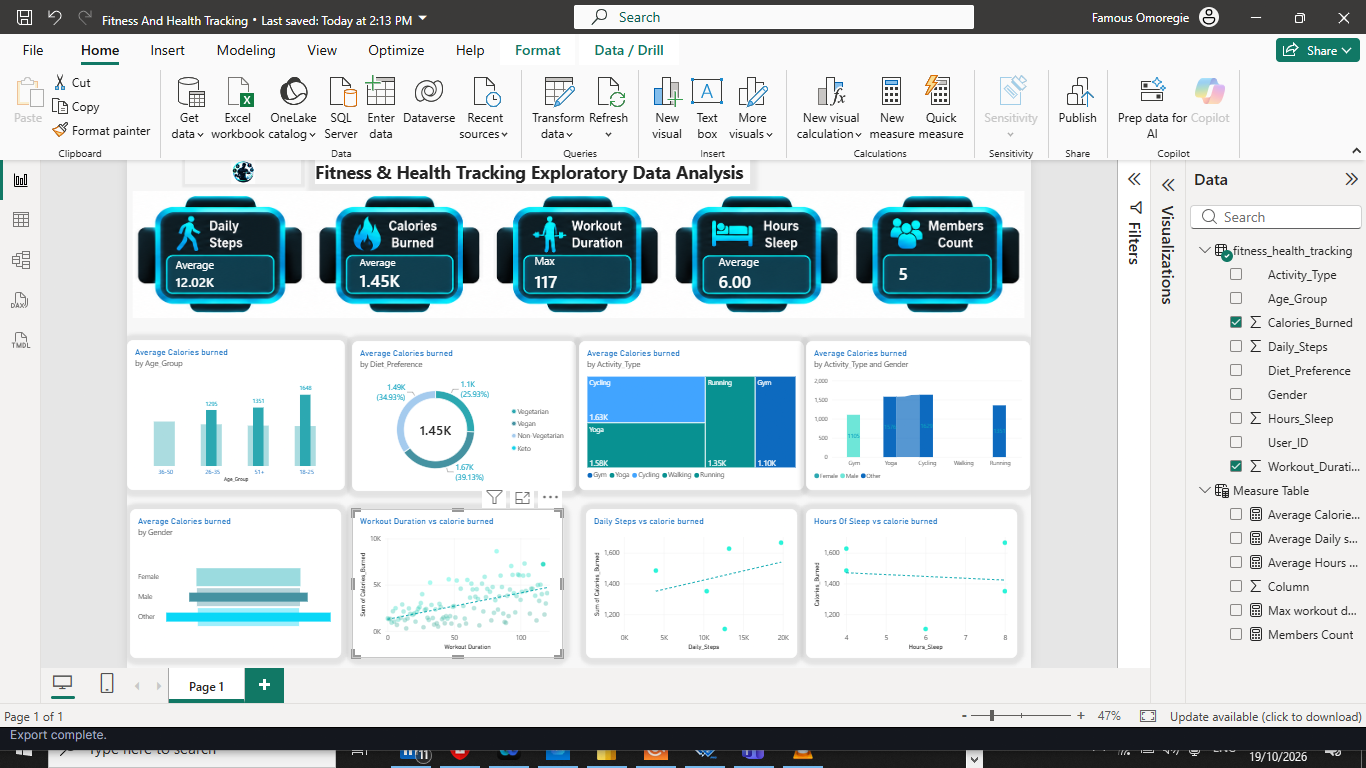

The dashboard page shown, as its layout file describes it:
{"tool":"powerbi","page":{"name":"Page 1","canvas":[1920,1080],"ordinal":0},"visuals":[{"type":"textbox","box":[399.7,0,924.8,51],"z":0},{"type":"image","box":[123.3,0,246.6,51],"z":1000},{"type":"image","box":[0,65.9,1919.8,270],"z":2000},{"type":"cardVisual","fields":{"Data":["Measure Table.Average Calories burned"]},"box":[478.3,202,210.5,80.8],"z":3000},{"type":"cardVisual","fields":{"Data":["Measure Table.Average Daily steps"]},"box":[87.2,202,219,80.8],"z":4000},{"type":"cardVisual","fields":{"Data":["Measure Table.Average workout duration"]},"box":[850.4,206.2,219,70.2],"z":5000},{"type":"cardVisual","fields":{"Data":["Measure Table.Average Hours Sleep"]},"box":[1241.6,204.1,202,76.5],"z":6000},{"type":"cardVisual","fields":{"Data":["Measure Table.Members Count"]},"box":[1624.3,187.1,219,108.4],"z":7000},{"type":"columnChart","fields":{"Category":["fitness_health_tracking.Age_Group"],"Y":["Measure Table.Average Calories burned"]},"box":[0,382.7,463.5,318.9],"z":8000},{"type":"donutChart","fields":{"Category":["fitness_health_tracking.Diet_Preference"],"Y":["Measure Table.Average Calories burned"]},"box":[478.3,384.8,476.2,318.9],"z":9000},{"type":"treemap","fields":{"Group":["fitness_health_tracking.Activity_Type"],"Values":["Measure Table.Average Calories burned"]},"box":[960.9,384.8,478.3,316.8],"z":10000},{"type":"ribbonChart","fields":{"Category":["fitness_health_tracking.Activity_Type"],"Series":["fitness_health_tracking.Gender"],"Y":["Measure Table.Average Calories burned"]},"box":[1443.5,384.8,476.2,316.8],"z":11000},{"type":"funnel","fields":{"Category":["fitness_health_tracking.Gender"],"Y":["Measure Table.Average Calories burned"]},"box":[6.4,742,448.6,316.8],"z":11001},{"type":"scatterChart","title":"Workout Duration vs calorie burned","fields":{"X":["fitness_health_tracking.Workout_Duration"],"Y":["Sum(fitness_health_tracking.Calories_Burned)"]},"box":[478.3,742,448.6,316.8],"z":11002},{"type":"scatterChart","title":"Daily Steps vs calorie burned","fields":{"X":["fitness_health_tracking.Daily_Steps"],"Y":["Sum(fitness_health_tracking.Calories_Burned)"]},"box":[975.8,742,448.6,316.8],"z":11003},{"type":"scatterChart","title":"Hours Of Sleep vs calorie burned","fields":{"X":["fitness_health_tracking.Hours_Sleep"],"Y":["fitness_health_tracking.Calories_Burned"]},"box":[1443.5,742,448.6,316.8],"z":11004}]}

Visuals, with their boxes on the page's 1920x1080 design canvas (x1, y1, x2, y2). These are canvas units, not pixel positions in the 1366x768 screenshot, which may show the page scaled, cropped or inside an application window:
textbox: bbox=(400, 0, 1324, 51)
image: bbox=(123, 0, 370, 51)
image: bbox=(0, 66, 1920, 336)
cardVisual - Measure Table.Average Calories burned: bbox=(478, 202, 689, 283)
cardVisual - Measure Table.Average Daily steps: bbox=(87, 202, 306, 283)
cardVisual - Measure Table.Average workout duration: bbox=(850, 206, 1069, 276)
cardVisual - Measure Table.Average Hours Sleep: bbox=(1242, 204, 1444, 281)
cardVisual - Measure Table.Members Count: bbox=(1624, 187, 1843, 296)
columnChart - fitness_health_tracking.Age_Group x Measure Table.Average Calories burned: bbox=(0, 383, 464, 702)
donutChart - fitness_health_tracking.Diet_Preference x Measure Table.Average Calories burned: bbox=(478, 385, 954, 704)
treemap - fitness_health_tracking.Activity_Type x Measure Table.Average Calories burned: bbox=(961, 385, 1439, 702)
ribbonChart - fitness_health_tracking.Activity_Type x fitness_health_tracking.Gender: bbox=(1444, 385, 1920, 702)
funnel - fitness_health_tracking.Gender x Measure Table.Average Calories burned: bbox=(6, 742, 455, 1059)
"Workout Duration vs calorie burned" scatterChart: bbox=(478, 742, 927, 1059)
"Daily Steps vs calorie burned" scatterChart: bbox=(976, 742, 1424, 1059)
"Hours Of Sleep vs calorie burned" scatterChart: bbox=(1444, 742, 1892, 1059)
